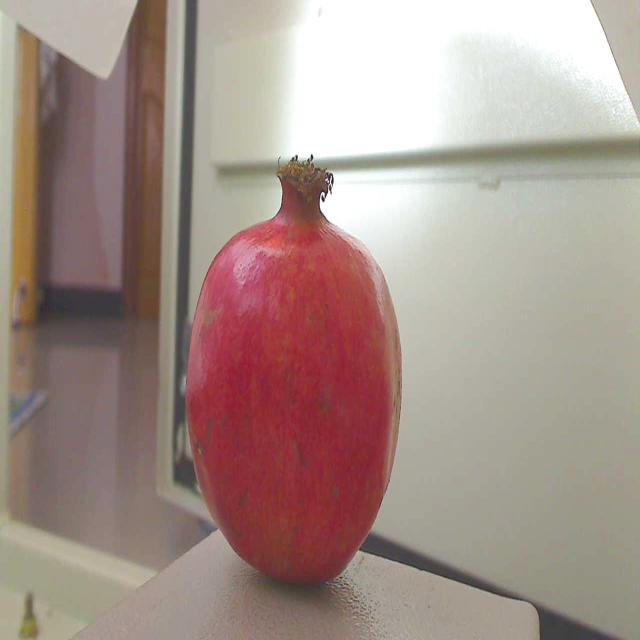pomegranate: (166, 145, 419, 601)
